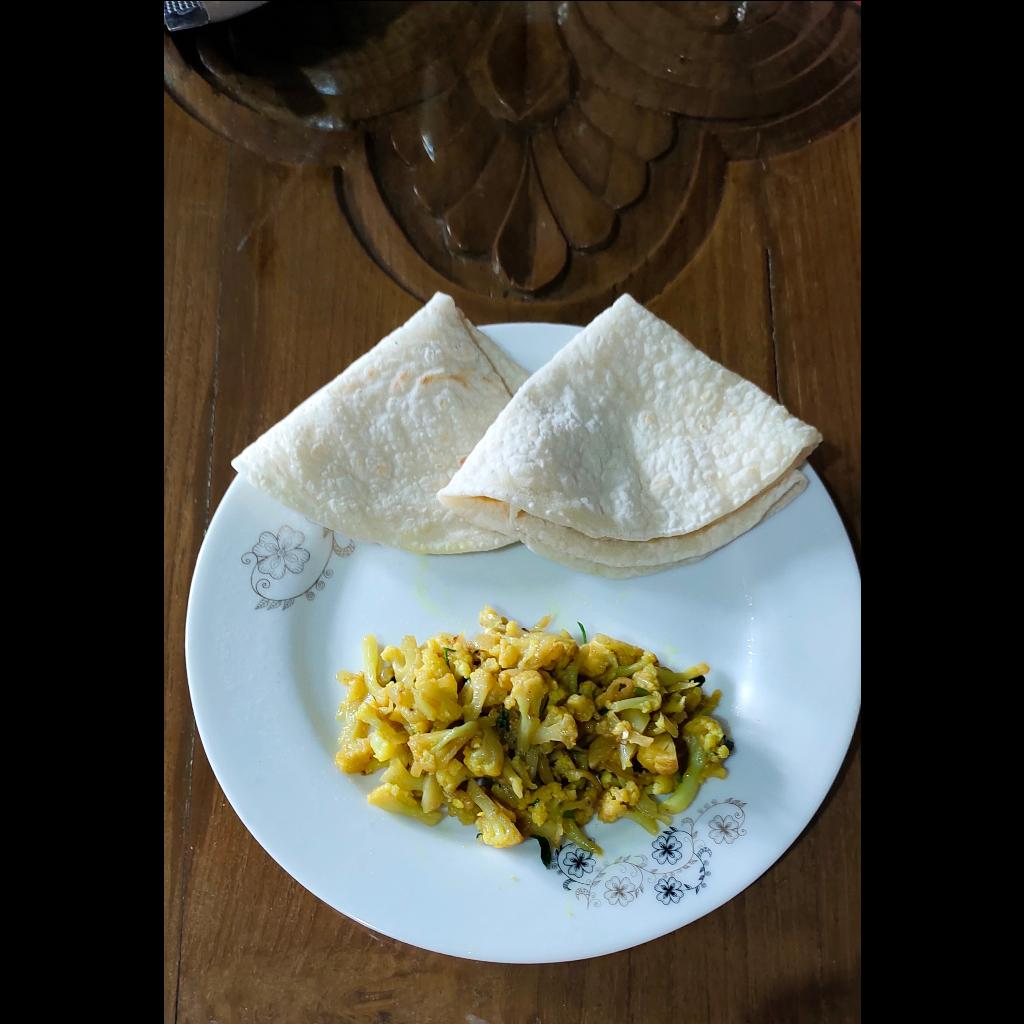cauliflower: (333, 606, 731, 858)
ruti: (224, 284, 816, 577)
